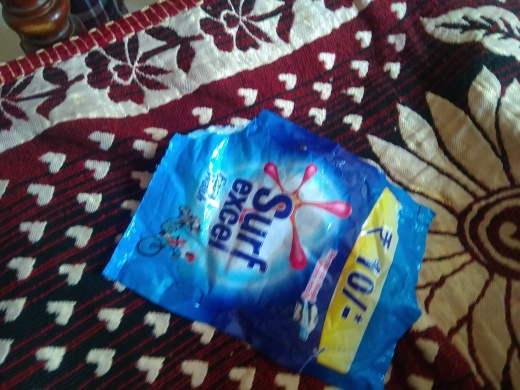surf: (121, 103, 432, 390)
